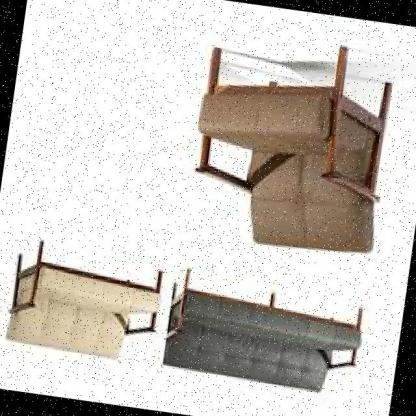Sofa: (156, 262, 380, 404), (0, 233, 175, 369)
